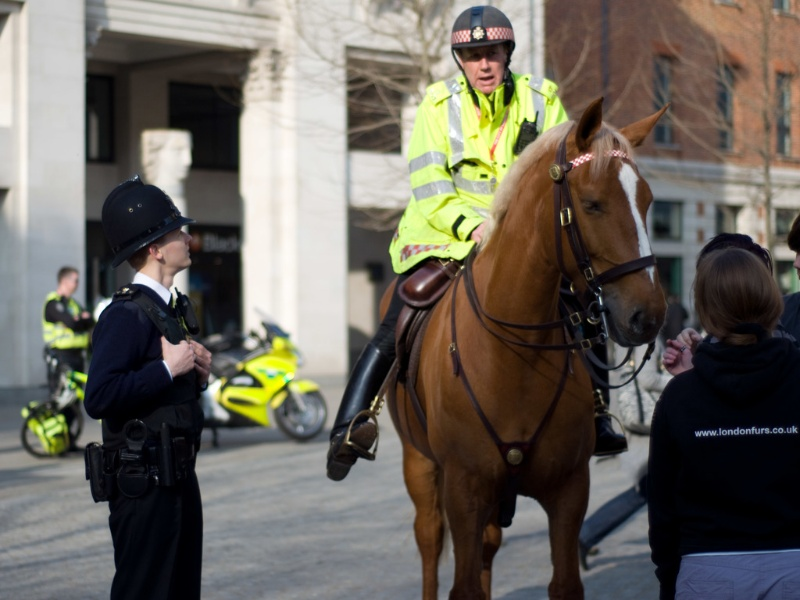helmet: (452, 6, 514, 53)
jacket: (413, 73, 567, 261)
